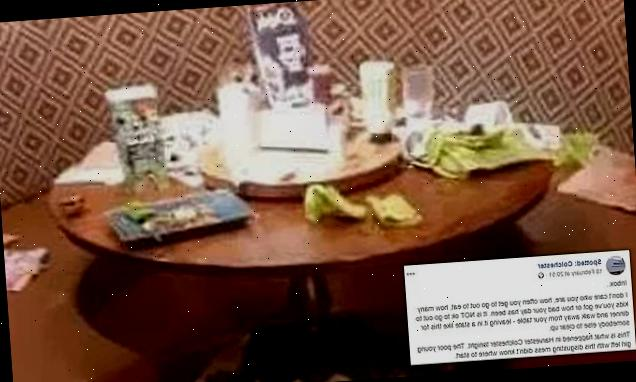Messy Table: (1, 27, 634, 293)
